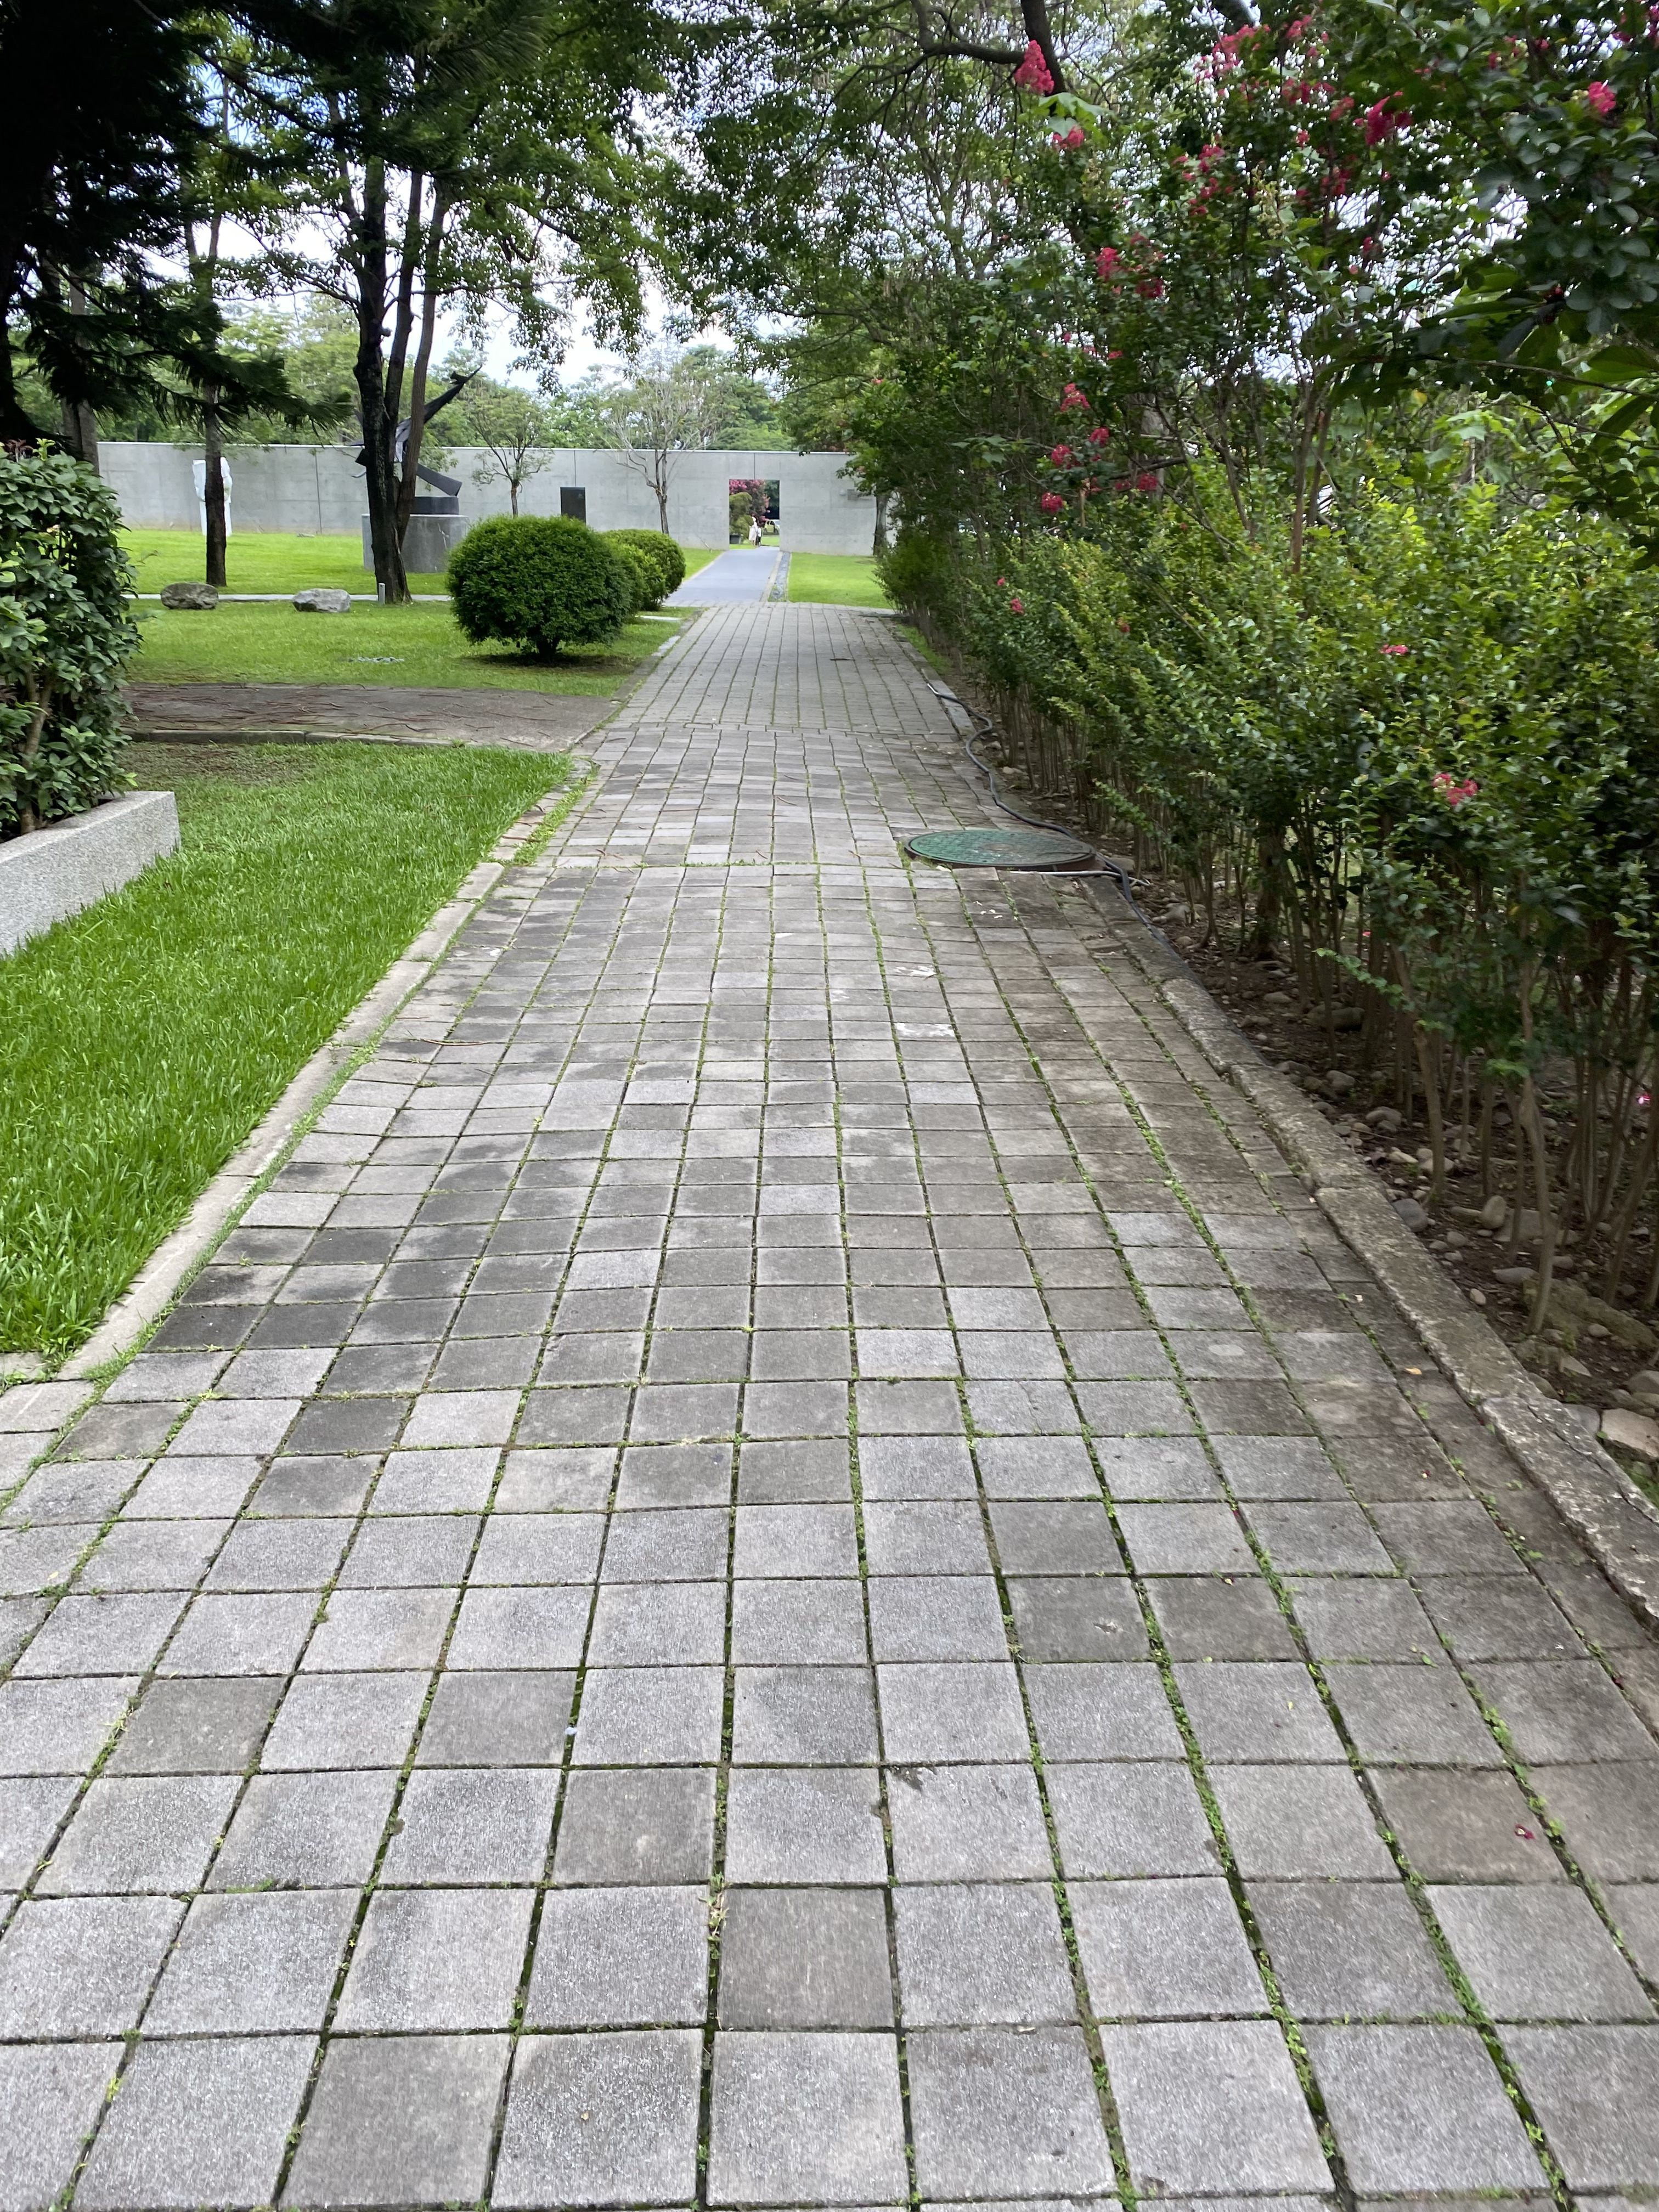0: (3, 737, 664, 2210)
sidewalk: (615, 601, 1659, 2203)
